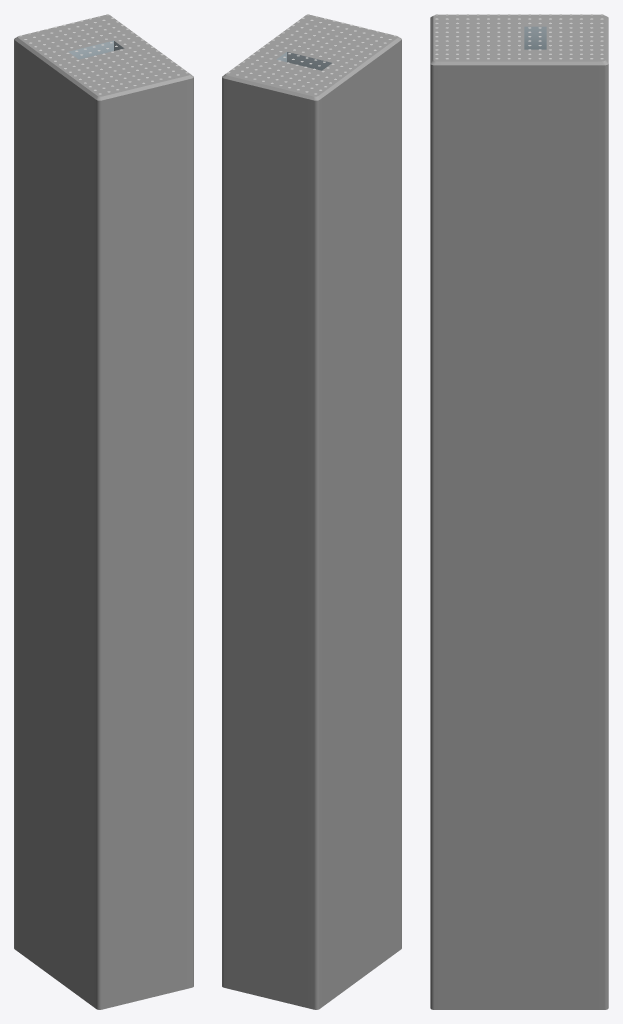
The model's file is Platform.fbx.
3 views of the same model, side by side, from view 1: azimuth 30°, elevation 25°; view 2: azimuth 150°, elevation 25°; view 3: azimuth 270°, elevation 25° (orthographic). The views are drawn at different scales.
Parts seen in each view (by area): view 1: Platform; view 2: Platform; view 3: Platform.
Part boxes in pixels (bbox=[...]): Platform: bbox=[14, 15, 193, 1009]; Platform: bbox=[222, 15, 401, 1009]; Platform: bbox=[430, 14, 608, 1009].
Bounding box in the file's own units: 1122 × 10090 × 1717.
